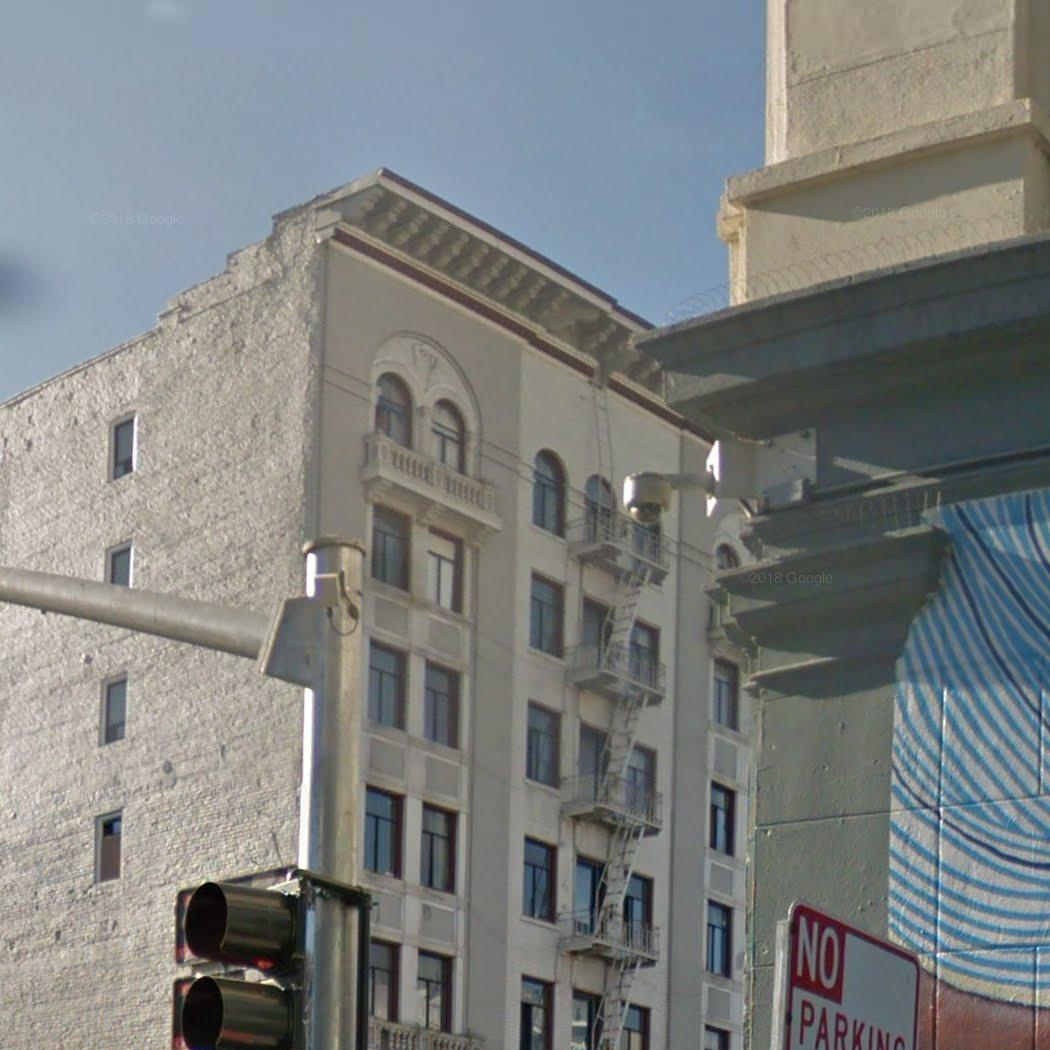No Parking: (778, 896, 920, 1050)
